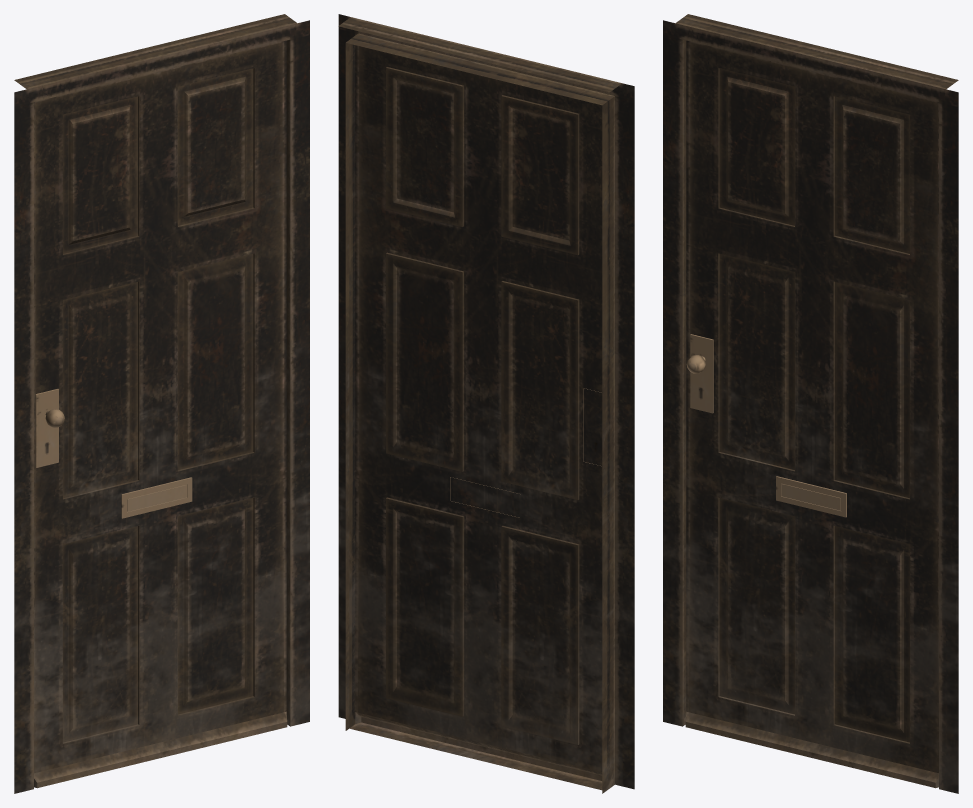
The model's file is door2.fbx.
3 views of the same model, side by side, from view 1: azimuth 30°, elevation 25°; view 2: azimuth 150°, elevation 25°; view 3: azimuth 330°, elevation 25° (orthographic).
Parts seen in each view (by area): view 1: Storefront doors; view 2: Storefront doors; view 3: Storefront doors.
Part boxes in pixels (x1=…): Storefront doors: x1=14, y1=14, x2=309, y2=793; Storefront doors: x1=338, y1=14, x2=634, y2=793; Storefront doors: x1=663, y1=14, x2=958, y2=793.
Bounding box in the file's own units: 28.09 × 63.7 × 3.51.
